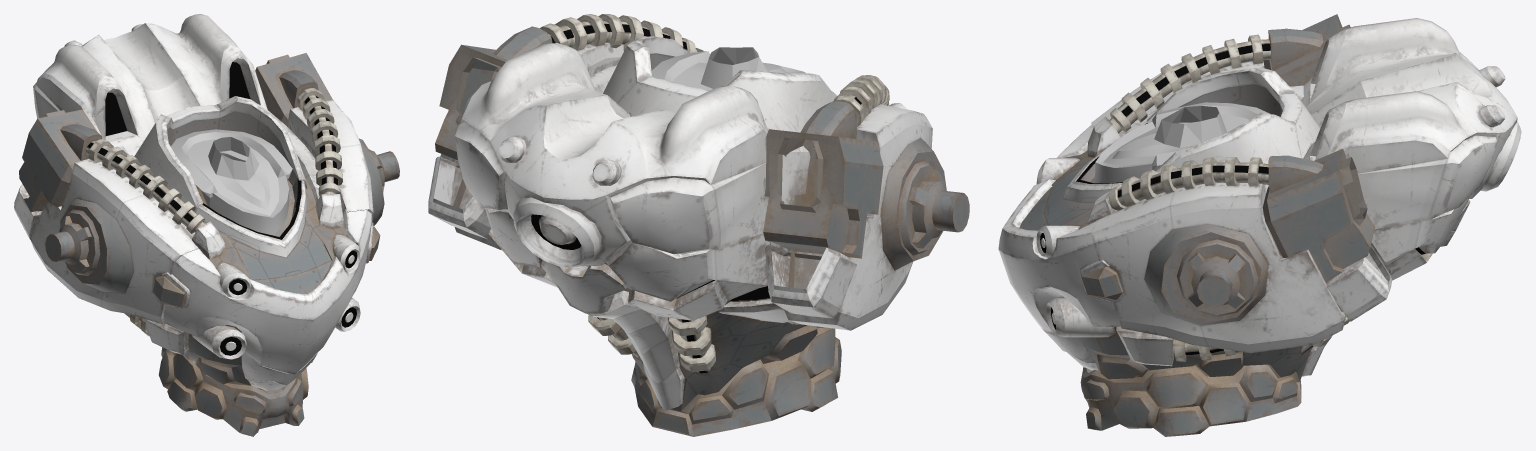
The model's file is Body.obj.
3 renders of one model, left to right at view 1: azimuth 30°, elevation 25°; view 2: azimuth 150°, elevation 25°; view 3: azimuth 270°, elevation 25°, orthographic. The views are drawn at different scales.
Visible parts, largest first — view 1: Body, Hatch, Neck, Hatch2; view 2: Body, Neck; view 3: Body, Hatch, Neck, Hatch2.
Boxes of the visible parts, bbox=[...] form: Body: bbox=[14, 14, 399, 436]; Hatch: bbox=[159, 178, 373, 374]; Neck: bbox=[171, 129, 292, 234]; Hatch2: bbox=[241, 352, 318, 390]; Body: bbox=[428, 14, 969, 436]; Neck: bbox=[651, 47, 805, 90]; Body: bbox=[1036, 14, 1521, 436]; Hatch: bbox=[998, 121, 1147, 332]; Neck: bbox=[1094, 102, 1269, 183]; Hatch2: bbox=[1044, 331, 1098, 370].
Bounding box in the file's own units: 93.3 × 78.63 × 103.
